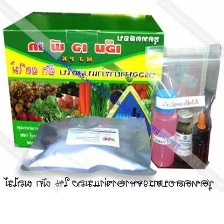book: (0, 8, 170, 150)
insecticide: (14, 114, 157, 176), (150, 85, 179, 167), (174, 108, 197, 168), (192, 113, 210, 169)
